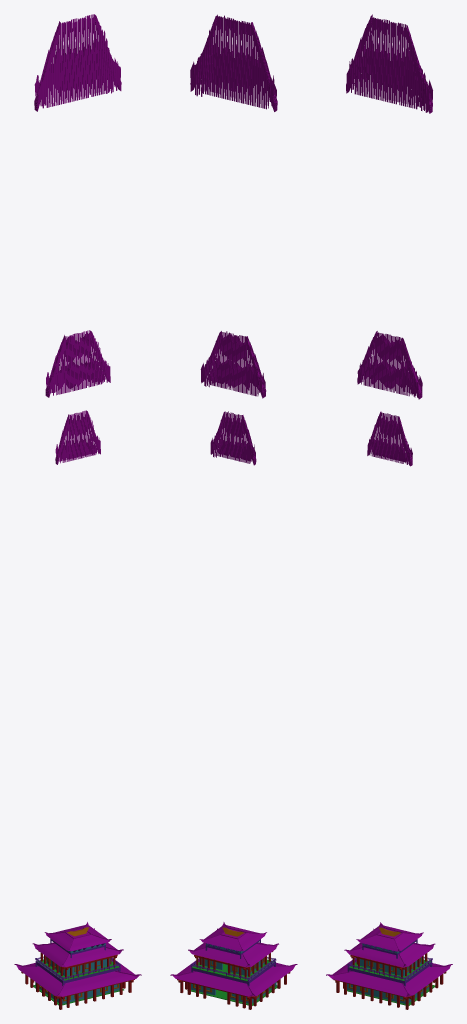
Rendered from Main Epang Palace.fbx.
The picture shows the model from 3 angles, left to right: view 1: azimuth 30°, elevation 25°; view 2: azimuth 150°, elevation 25°; view 3: azimuth 330°, elevation 25°; orthographic projection.
Visible parts, largest first — view 1: epangroof_sm_shingles_shingles1_pCube64 (×3), epangroof_sm_shingles_shingles_pCube13 (×3), epangroof_sm5, epangroof_sm4, epangroof_sm3, epangroof_sm_shingles_shingles3_pCube102 (×2), pCube225, base_top1_pCube190, pCube228; view 2: epangroof_sm_shingles_shingles_pCube13 (×3), epangroof_sm_shingles_shingles1_pCube64 (×3), epangroof_sm5, epangroof_sm4, epangroof_sm3, epangroof_sm_shingles_shingles3_pCube102 (×2), pCube225, base_top1_pCube190, pCube228, base_mid, epangroof_sm_shingles_shingles2_pCube65; view 3: epangroof_sm_shingles_shingles1_pCube64 (×3), epangroof_sm_shingles_shingles_pCube13 (×3), epangroof_sm5, epangroof_sm4, epangroof_sm3, epangroof_sm_shingles_shingles2_pCube65 (×2), pCube225, base_top1_pCube190, pCube228, epangroof_sm_shingles_shingles3_pCube102, pCube235.
Boxes of the visible parts, box(x1,y1,x2,y2) form: epangroof_sm_shingles_shingles1_pCube64 (×3): box(41, 15, 118, 463); epangroof_sm_shingles_shingles_pCube13 (×3): box(36, 14, 114, 461); epangroof_sm5: box(14, 957, 141, 996); epangroof_sm4: box(32, 928, 123, 967); epangroof_sm3: box(44, 922, 111, 951); epangroof_sm_shingles_shingles3_pCube102 (×2): box(34, 21, 65, 397); pCube225: box(21, 972, 134, 1009); base_top1_pCube190: box(35, 956, 120, 985); pCube228: box(38, 951, 117, 978); epangroof_sm_shingles_shingles_pCube13 (×3): box(193, 15, 272, 463); epangroof_sm_shingles_shingles1_pCube64 (×3): box(196, 14, 274, 461); epangroof_sm5: box(170, 958, 297, 996); epangroof_sm4: box(188, 928, 278, 967); epangroof_sm3: box(199, 922, 266, 951); epangroof_sm_shingles_shingles3_pCube102 (×2): box(245, 22, 277, 398); pCube225: box(177, 972, 290, 1009); base_top1_pCube190: box(190, 957, 276, 986); pCube228: box(194, 951, 273, 979); base_mid: box(192, 959, 273, 981); epangroof_sm_shingles_shingles2_pCube65: box(190, 15, 216, 91); epangroof_sm_shingles_shingles1_pCube64 (×3): box(349, 18, 426, 464); epangroof_sm_shingles_shingles_pCube13 (×3): box(351, 17, 429, 465); epangroof_sm5: box(326, 958, 452, 996); epangroof_sm4: box(344, 928, 435, 967); epangroof_sm3: box(356, 922, 423, 951); epangroof_sm_shingles_shingles2_pCube65 (×2): box(402, 25, 432, 399); pCube225: box(333, 971, 446, 1009); base_top1_pCube190: box(347, 957, 432, 986); pCube228: box(350, 953, 427, 979); epangroof_sm_shingles_shingles3_pCube102: box(346, 14, 372, 93); pCube235: box(347, 983, 429, 1003).
Size of the model in its own units: 42.05 by 461 by 36.87.
